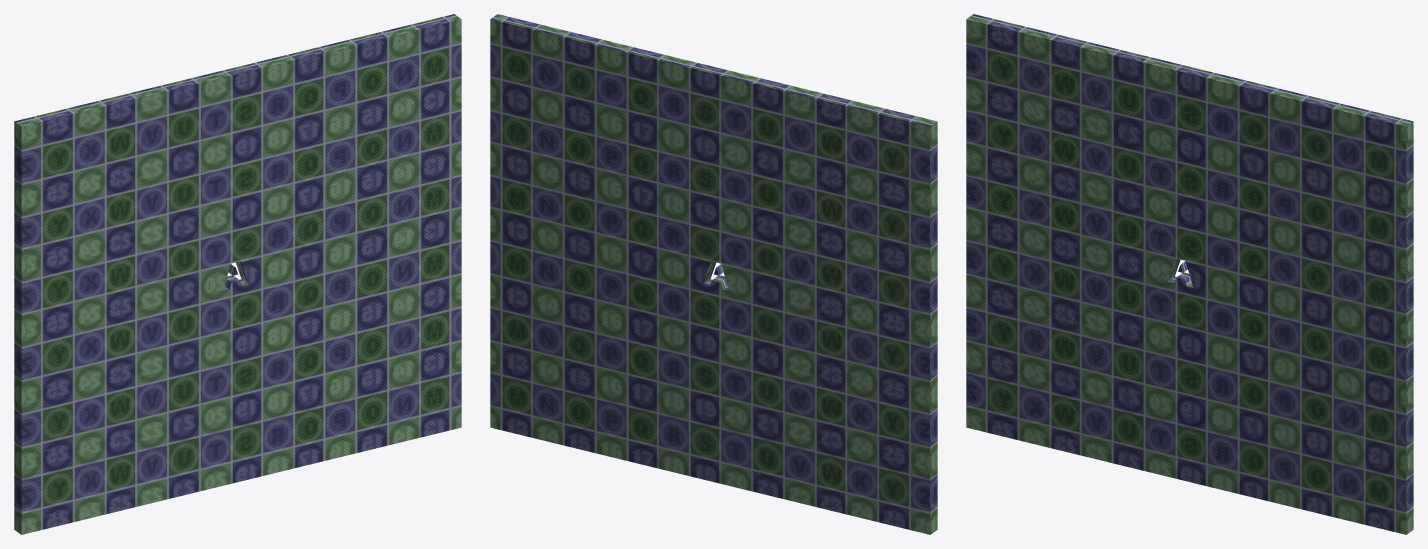
Rendered from Barriera_A.FBX.
The picture shows the model from 3 angles, left to right: view 1: azimuth 30°, elevation 25°; view 2: azimuth 150°, elevation 25°; view 3: azimuth 330°, elevation 25°; orthographic projection.
Visible parts, largest first — view 1: BARRIERA_A; view 2: BARRIERA_A; view 3: BARRIERA_A.
Boxes of the visible parts, bbox=[...] form: BARRIERA_A: bbox=[14, 14, 461, 534]; BARRIERA_A: bbox=[490, 14, 937, 534]; BARRIERA_A: bbox=[966, 14, 1413, 534].
Bounding box in the file's own units: 3498 × 3100 × 100.
Materials: 1 (1 with a texture image).
